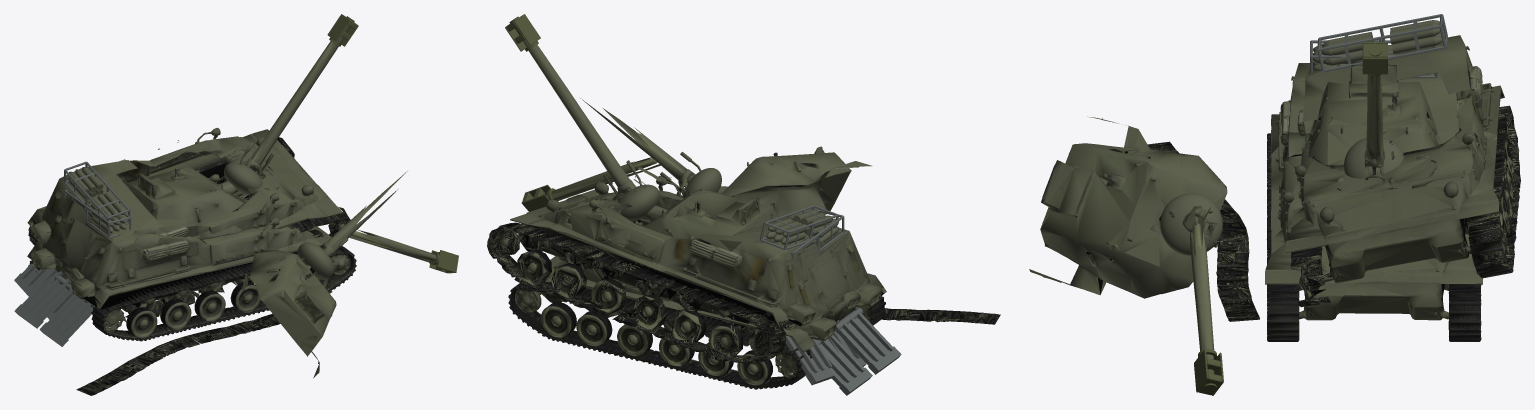
Rendered from spg_cluster.glb.
3 views of the same model, side by side, from view 1: azimuth 30°, elevation 25°; view 2: azimuth 150°, elevation 25°; view 3: azimuth 270°, elevation 25° (orthographic). The views are drawn at different scales.
Visible parts, largest first — view 1: hull_hull, WRECK_hull_hull, hull_rubber, WRECK_turret_hull, turret_hull, WRECK_hull_rubber, turret_metal, WRECK_turret_metal; view 2: WRECK_hull_hull, WRECK_hull_rubber, hull_hull, hull_rubber, WRECK_turret_hull, turret_hull, turret_metal, WRECK_turret_metal; view 3: WRECK_hull_hull, WRECK_turret_hull, hull_hull, WRECK_hull_rubber, turret_hull, WRECK_turret_metal, hull_rubber, turret_metal.
Boxes of the visible parts, x1,y1,x2,y2 form: hull_hull: (14,174,331,346); WRECK_hull_hull: (14,127,342,319); hull_rubber: (27,246,356,341); WRECK_turret_hull: (241,249,336,378); turret_hull: (126,167,249,245); WRECK_hull_rubber: (27,137,350,395); turret_metal: (224,14,358,194); WRECK_turret_metal: (297,171,458,279); WRECK_hull_hull: (510,166,866,385); WRECK_hull_rubber: (487,222,1000,363); hull_hull: (542,205,901,395); hull_rubber: (508,282,886,389); WRECK_turret_hull: (718,146,872,217); turret_hull: (633,189,778,251); turret_metal: (505,14,659,221); WRECK_turret_metal: (521,98,721,211); WRECK_hull_hull: (1285,14,1503,283); WRECK_turret_hull: (1029,116,1227,298); hull_hull: (1265,40,1482,320); WRECK_hull_rubber: (1147,93,1520,321); turret_hull: (1288,64,1459,181); WRECK_turret_metal: (1160,193,1225,395); hull_rubber: (1266,125,1481,341); turret_metal: (1344,42,1404,179).
Bounding box in the file's own units: 10.21 × 5.88 × 7.68.
1 material, 1 textured.
